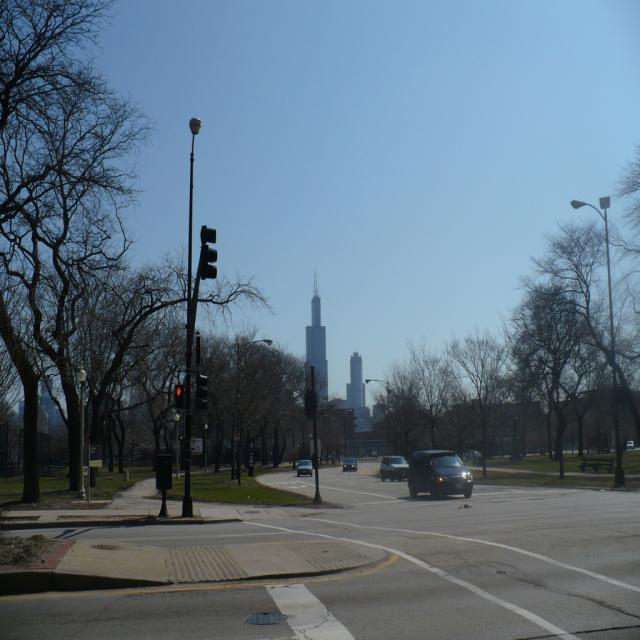off traffic light: (199, 226, 218, 278), (199, 371, 208, 408)
traffic light: (174, 385, 184, 408)
